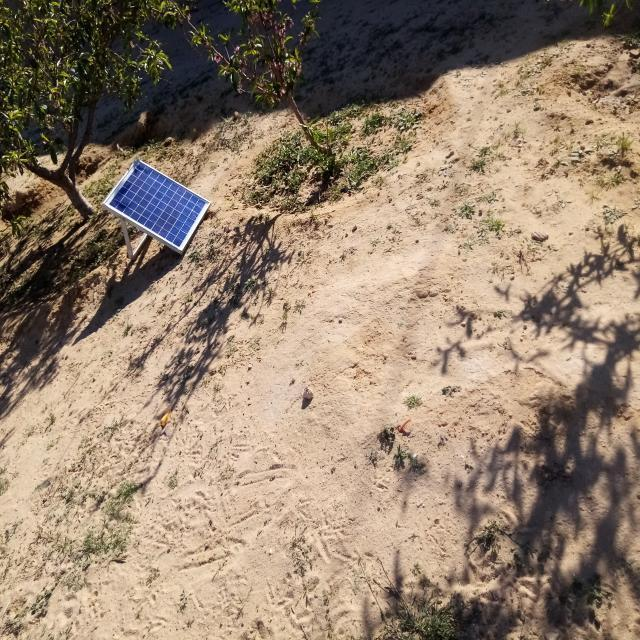Normal Solar Panel: (103, 158, 210, 250)
